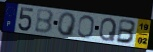5: (17, 6, 35, 32)
B: (115, 18, 138, 45), (34, 9, 55, 35)
O: (76, 15, 95, 40)
Q: (57, 12, 78, 38), (98, 17, 118, 42)
